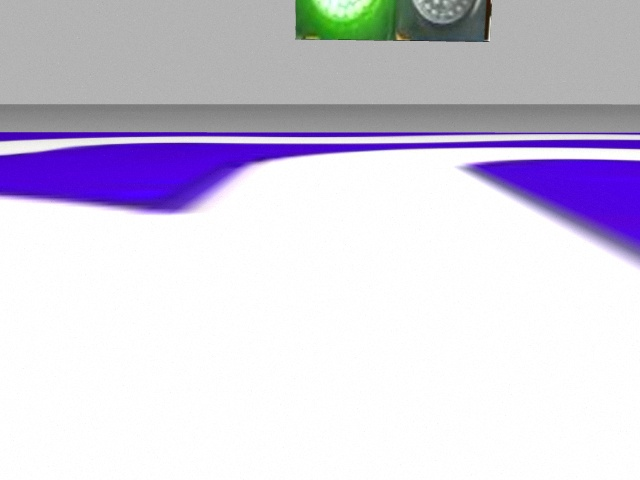green: (294, 2, 396, 39)
